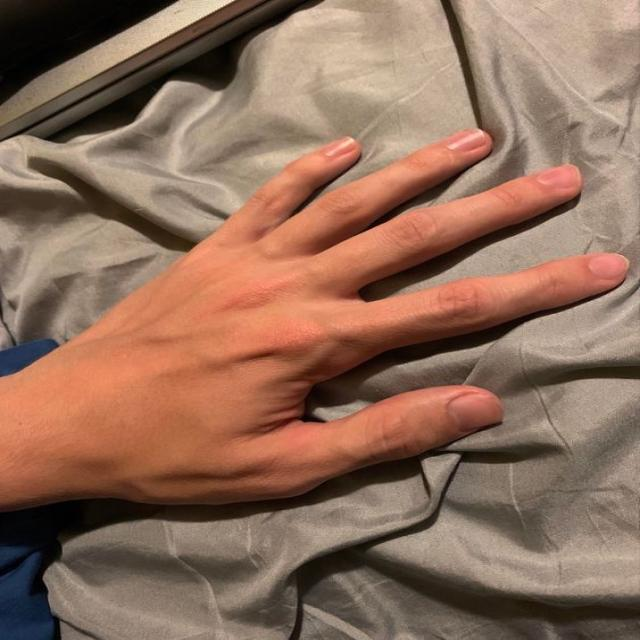Fingernail: (449, 394, 503, 431), (439, 128, 485, 152), (588, 253, 630, 279), (537, 164, 580, 187), (322, 137, 354, 158)
